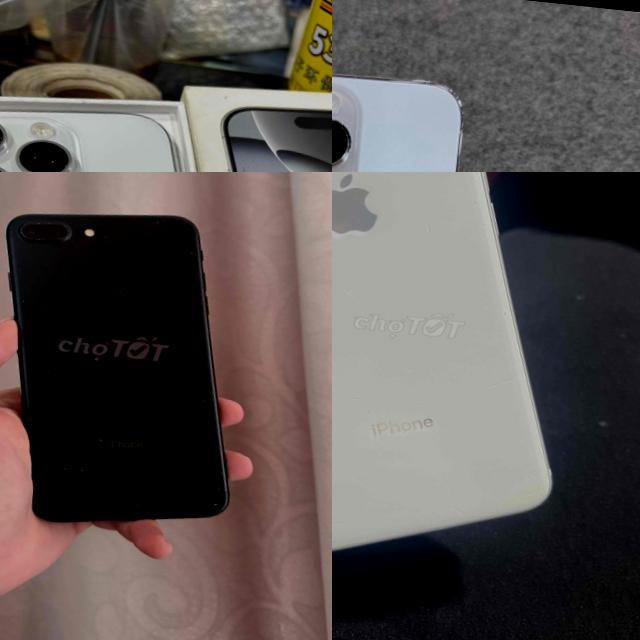gen_14: (332, 55, 484, 172)
gen_16: (0, 80, 274, 172)
gen_7_8: (332, 172, 605, 584), (0, 187, 268, 543)
